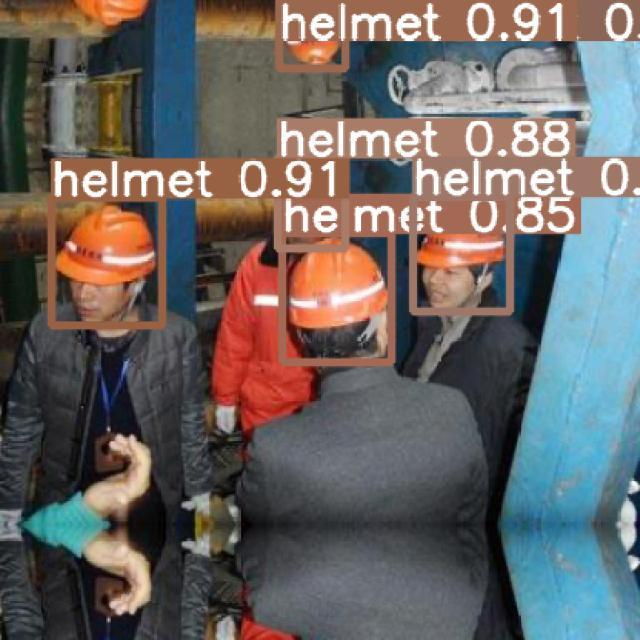red helmet: (286, 241, 388, 331), (56, 204, 161, 286), (416, 235, 504, 273), (76, 1, 152, 27), (285, 42, 342, 66)
